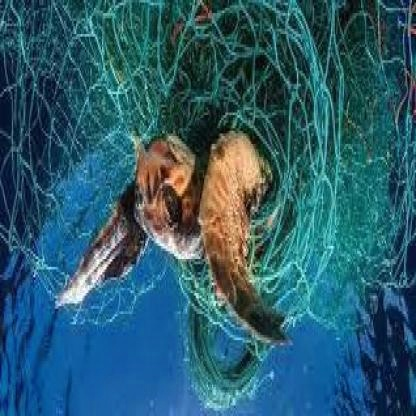net: (21, 3, 391, 319)
